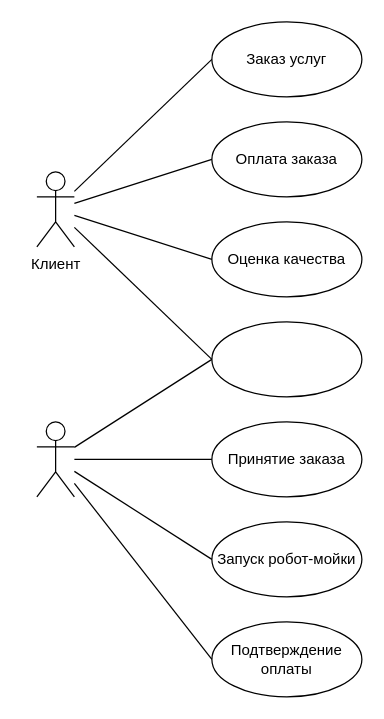
Image size: 384x719. Some labels were removed from this diagram. Here are the shapes that lost their labels. From the top down, the box of each, then its label:
(211, 321, 362, 397): Дистанционная слежка
(36, 421, 74, 497): Оператор
